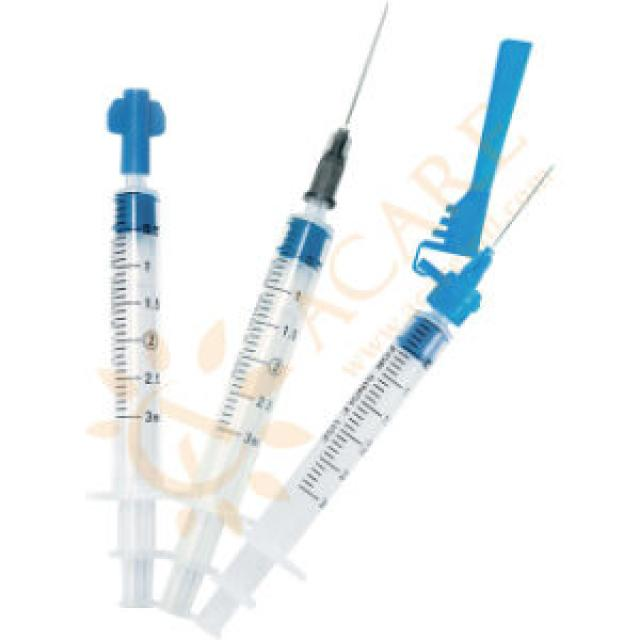syringe: (190, 34, 552, 636), (158, 0, 390, 617), (31, 14, 182, 624)
